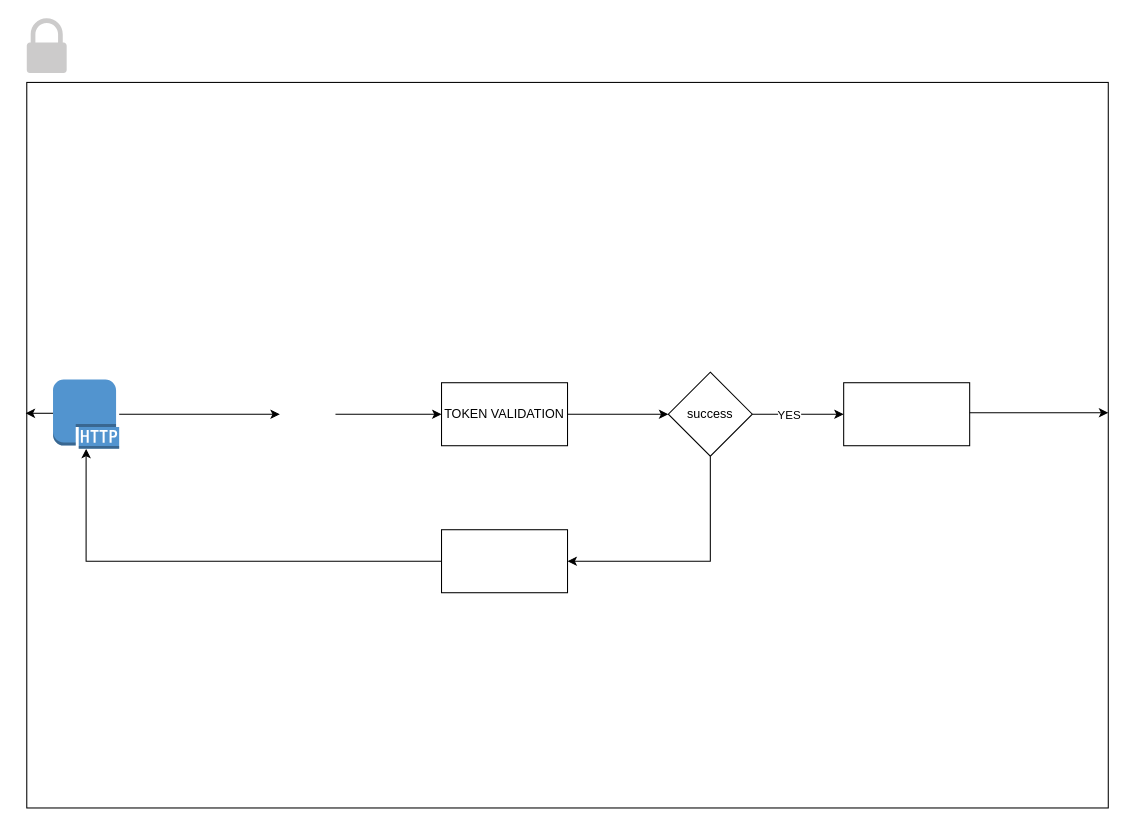
The diagram is 1136 pixels wide and 826 high, and some of its shapes have lost their labels. Here are the shapes that lost their labels. From the top down, the centre of each, then its label:
the point at 906,414: INVOKE PATH
the point at 504,561: UNAUTHORIZED
